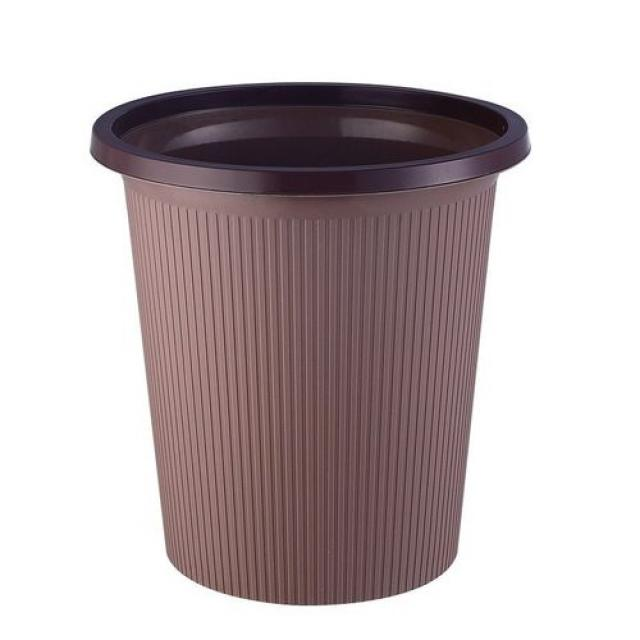Dustbin: (85, 74, 538, 612)
